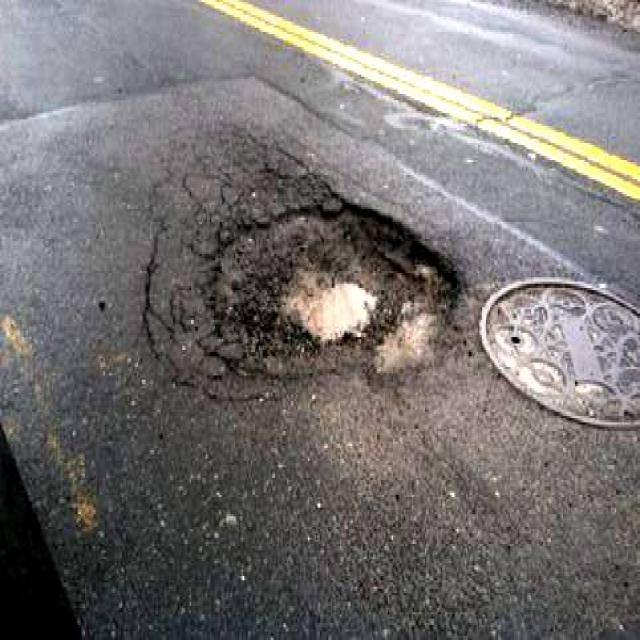pothole: (218, 200, 458, 378)
